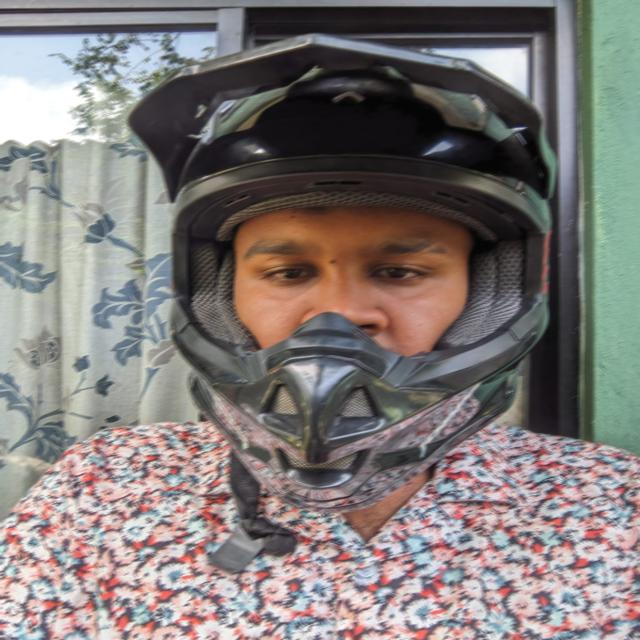With Helmet: (129, 33, 563, 510)
